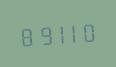eight: (18, 22, 33, 48)
nine: (34, 21, 49, 47)
one: (50, 20, 65, 46), (66, 19, 81, 45)
zero: (82, 18, 97, 44)
